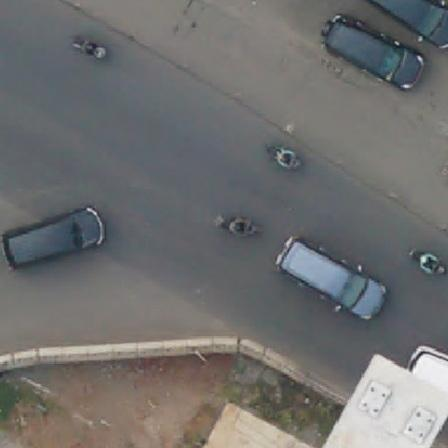Car: (274, 233, 391, 328), (318, 8, 428, 98), (2, 203, 109, 271), (364, 0, 448, 50)
Motorcycle: (212, 209, 267, 241), (408, 243, 448, 281), (70, 29, 109, 64), (262, 140, 303, 170)
